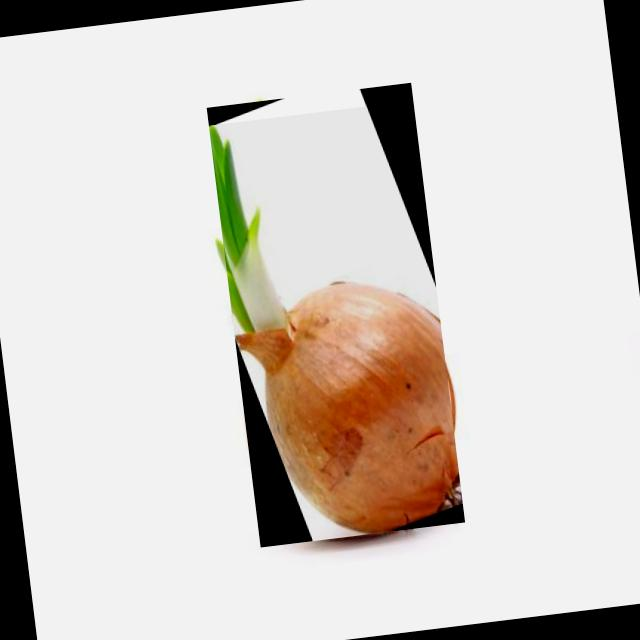sprouting: (209, 125, 460, 532)
